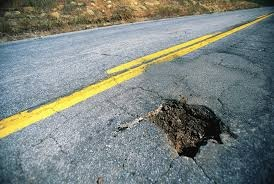pothole: (152, 87, 232, 162)
